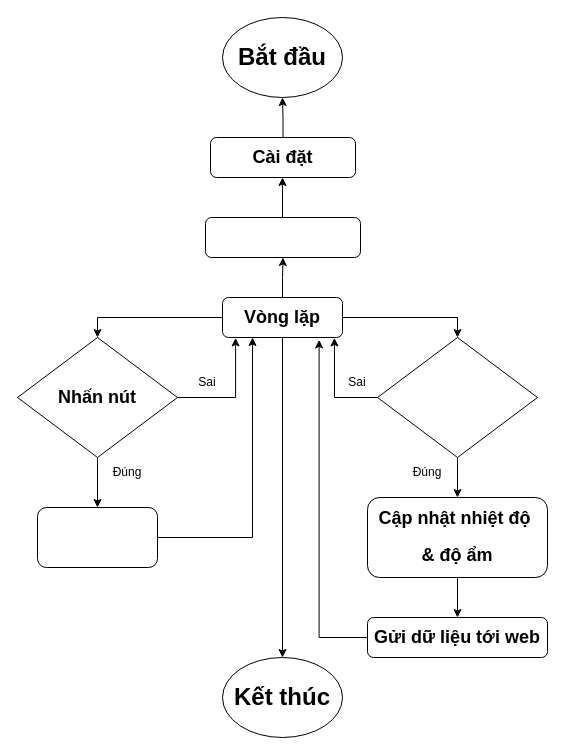
Image size: 565x755. Some labels were removed from this diagram. Here are the shapes that lost their labels. From the top down, the centre of each, then its label:
At pixel 282 237: "Khởi động web".
At pixel 457 397: "Đọc cảm biến".
At pixel 97 537: "Đổi trạng thái led".
